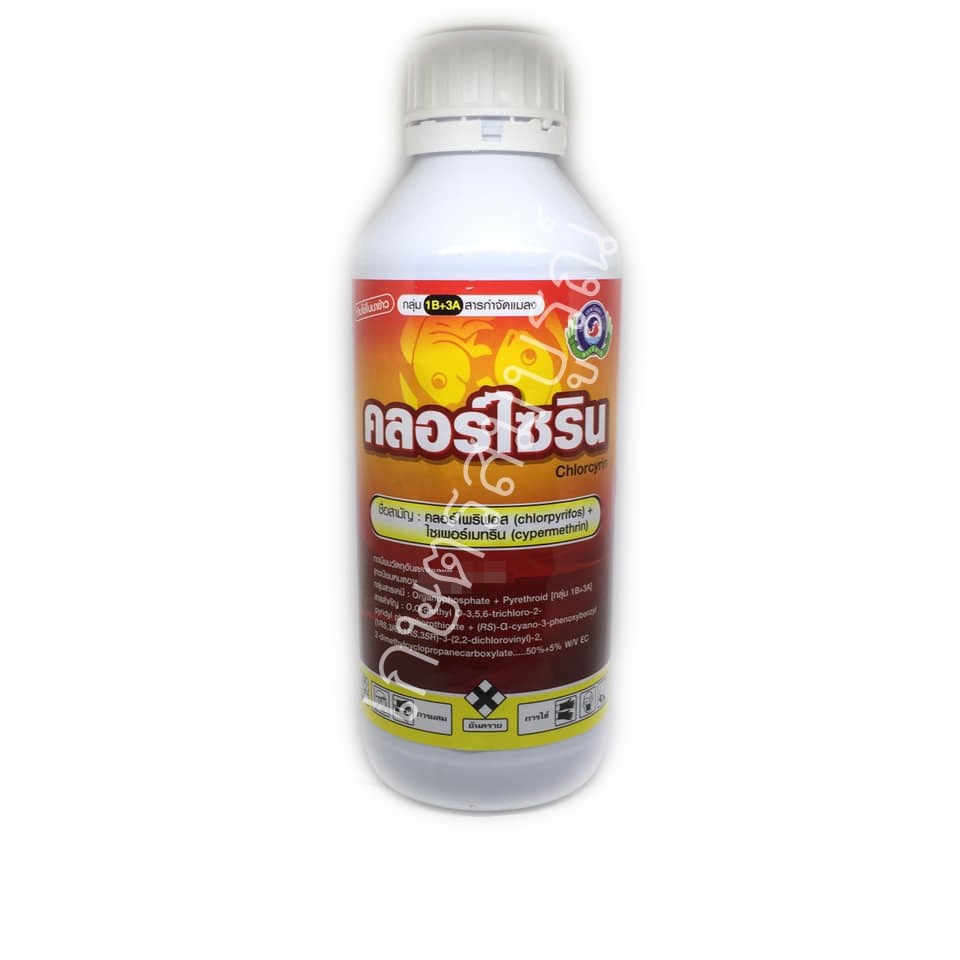Insecticide: (344, 16, 629, 826)
